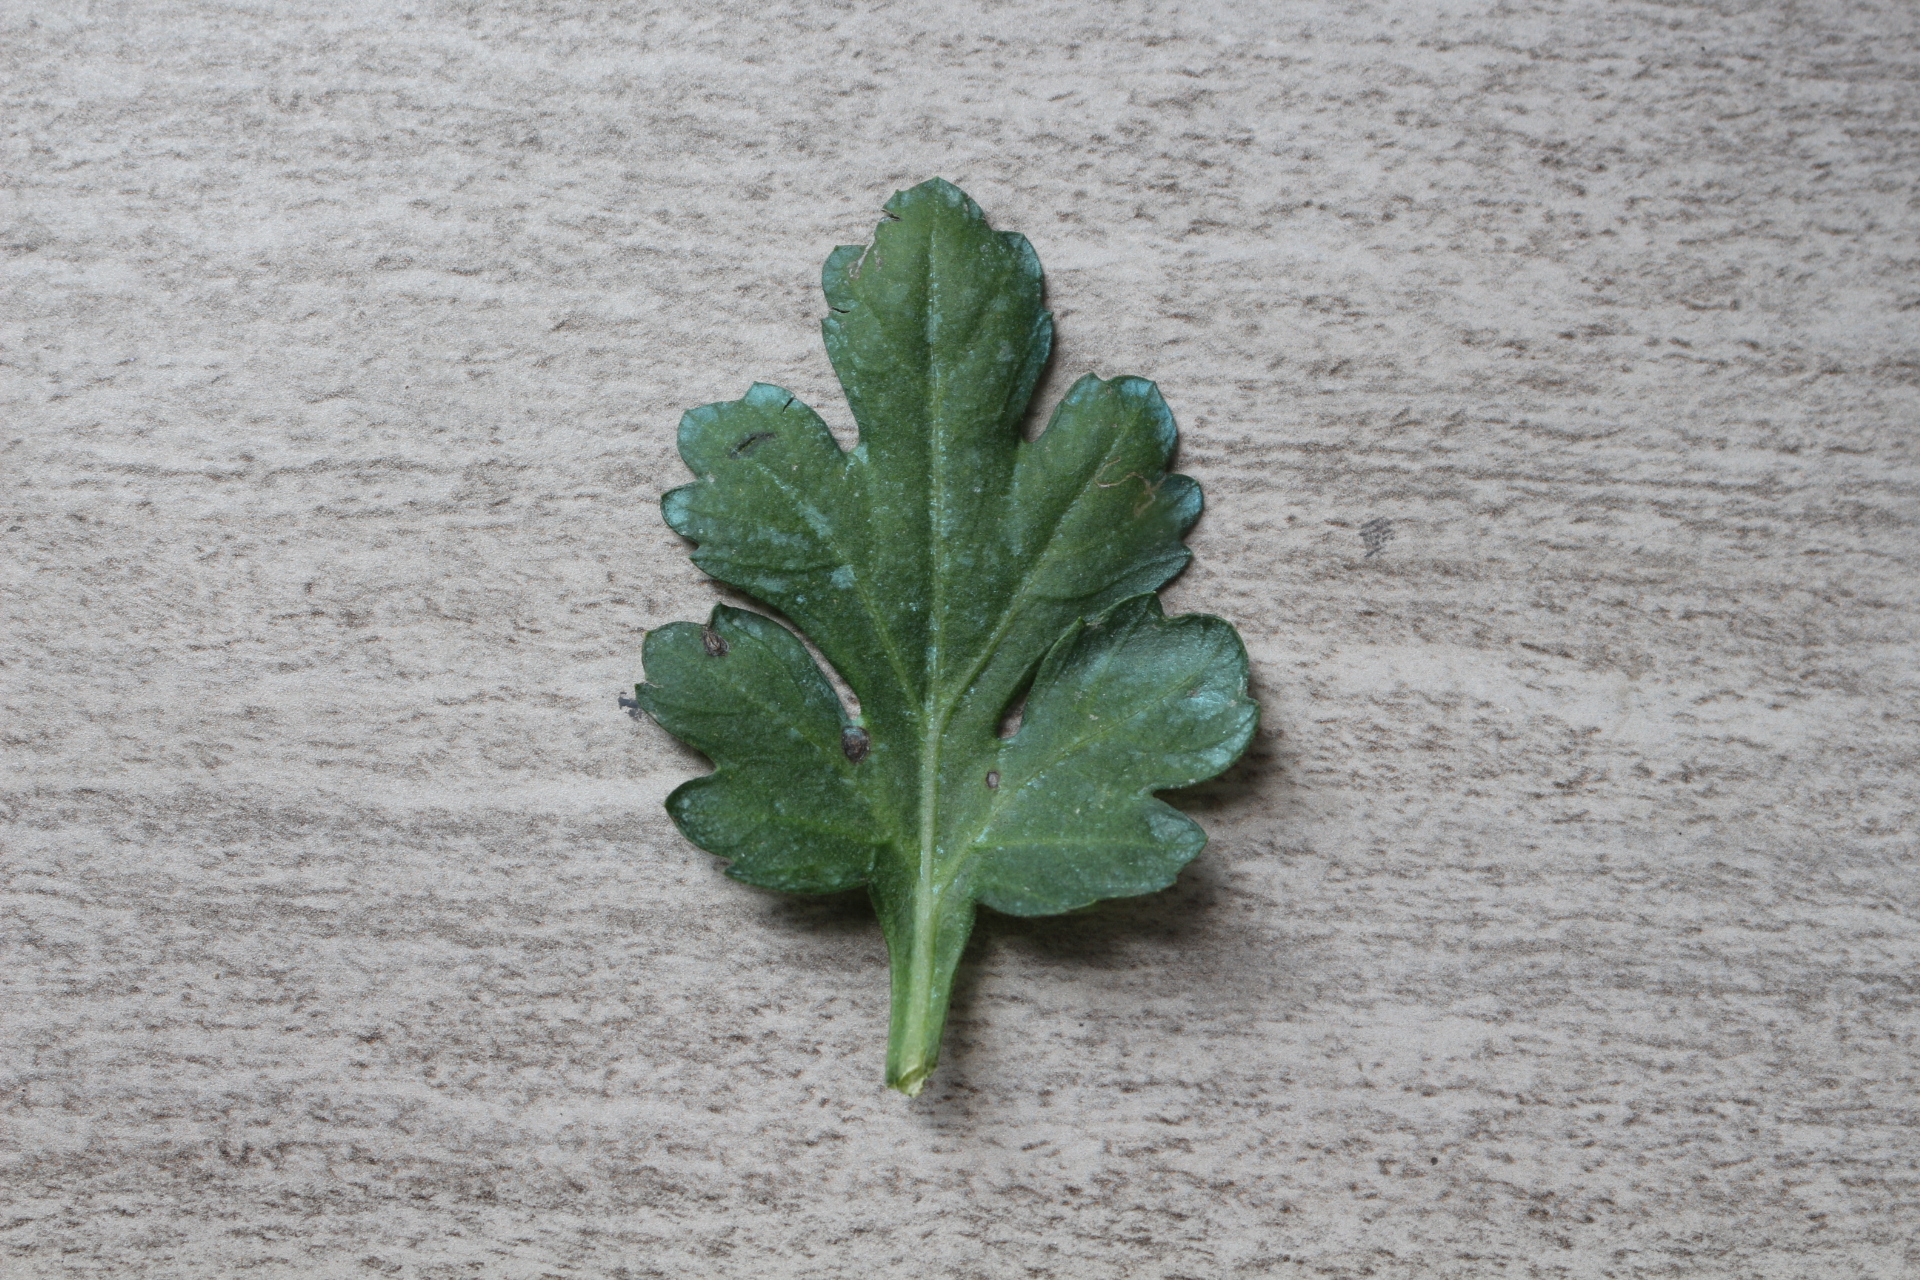namden: (834, 724, 876, 773), (699, 624, 731, 661), (980, 763, 1007, 796)
